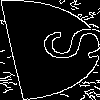S: (24, 25, 100, 64)
